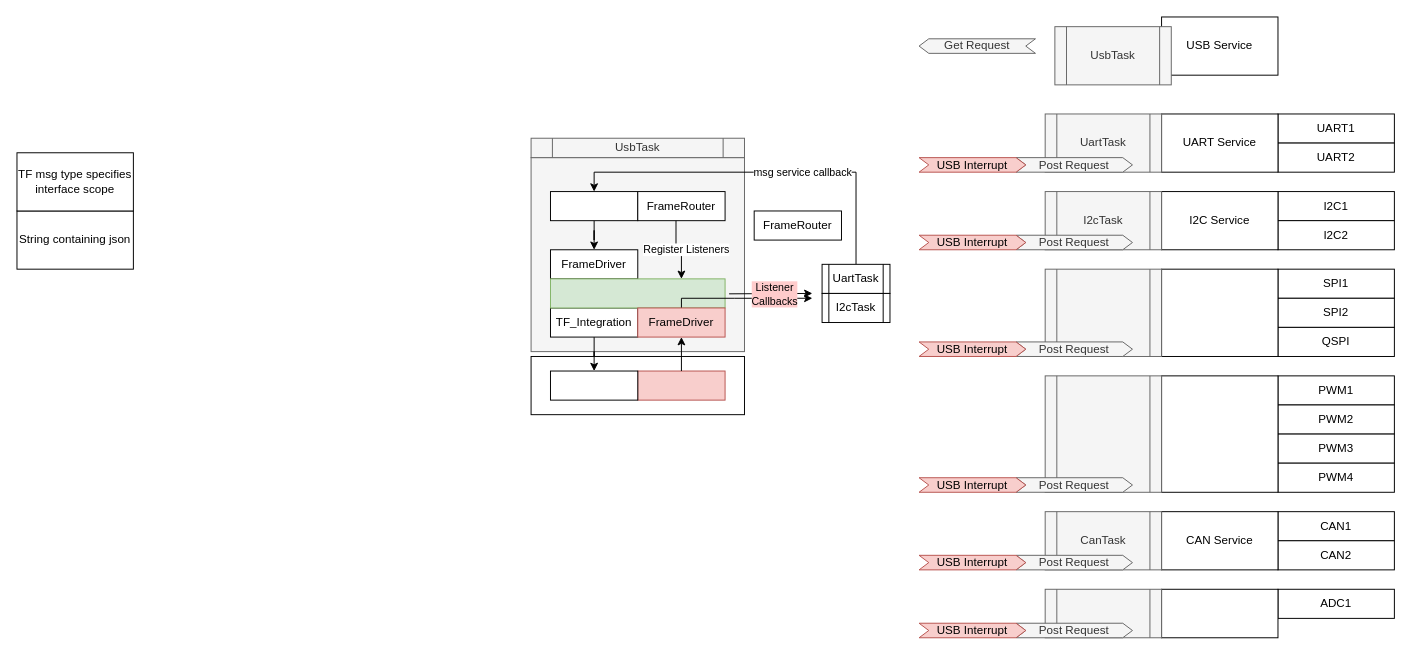
Image size: 1411x655. Some labels were removed from this diagram. The shapes that lost their labels are listed below. From the top down, each one's box as (x1, y1, x2, y2) in pixels, then its label:
(550, 191, 638, 221): UsbService
(550, 278, 725, 308): TinyFrame Lib
(1044, 268, 1162, 356): SpiTask
(1161, 268, 1278, 356): SPI Service
(550, 370, 638, 400): Send Data to USB
(637, 370, 725, 400): Reveice Data from USB
(1044, 375, 1162, 492): PwmTask
(1161, 375, 1278, 492): PWM Service
(1044, 588, 1162, 638): AdcTask
(1161, 588, 1278, 638): ADC Service
